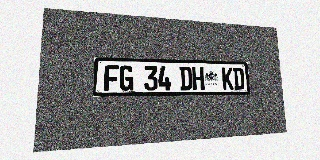3: (144, 66, 158, 91)
4: (158, 66, 171, 91)
D: (179, 66, 192, 90), (233, 68, 245, 90)
F: (104, 65, 119, 91)
G: (119, 65, 133, 91)
H: (192, 67, 204, 90)
K: (222, 67, 234, 90)
